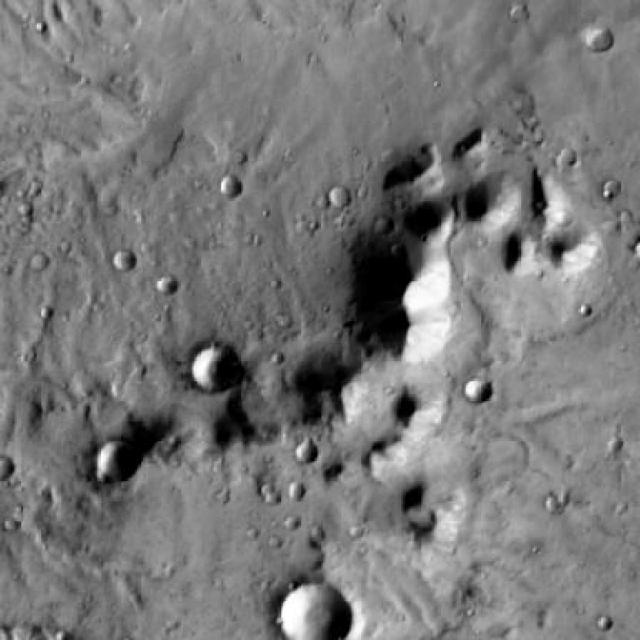crater: (276, 577, 355, 640), (188, 342, 242, 391), (94, 436, 144, 482), (587, 27, 618, 55), (464, 378, 491, 404), (617, 224, 640, 253), (112, 248, 137, 270), (328, 185, 352, 206), (296, 444, 318, 464), (155, 273, 177, 293), (219, 178, 241, 198), (557, 146, 578, 166), (28, 255, 48, 273), (289, 483, 306, 499)
